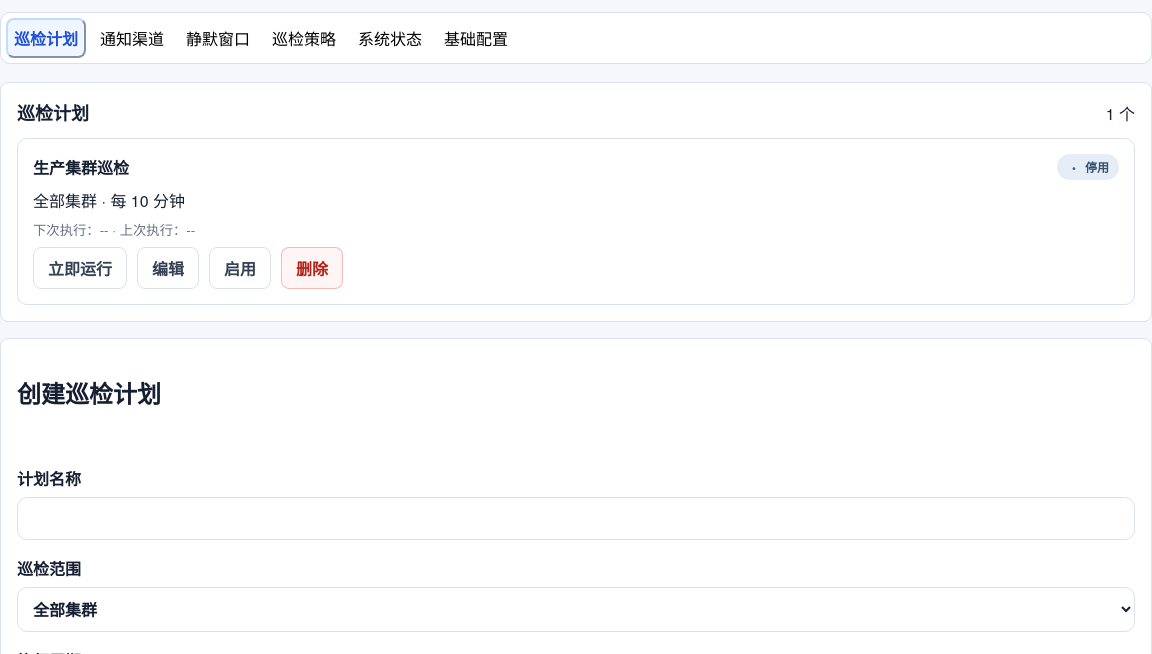
SettingsPage › creates and enables plans with CSRF while keeping management outside the workbench
Click the button "启用".
click(240, 268)  # box [209,247,271,289]
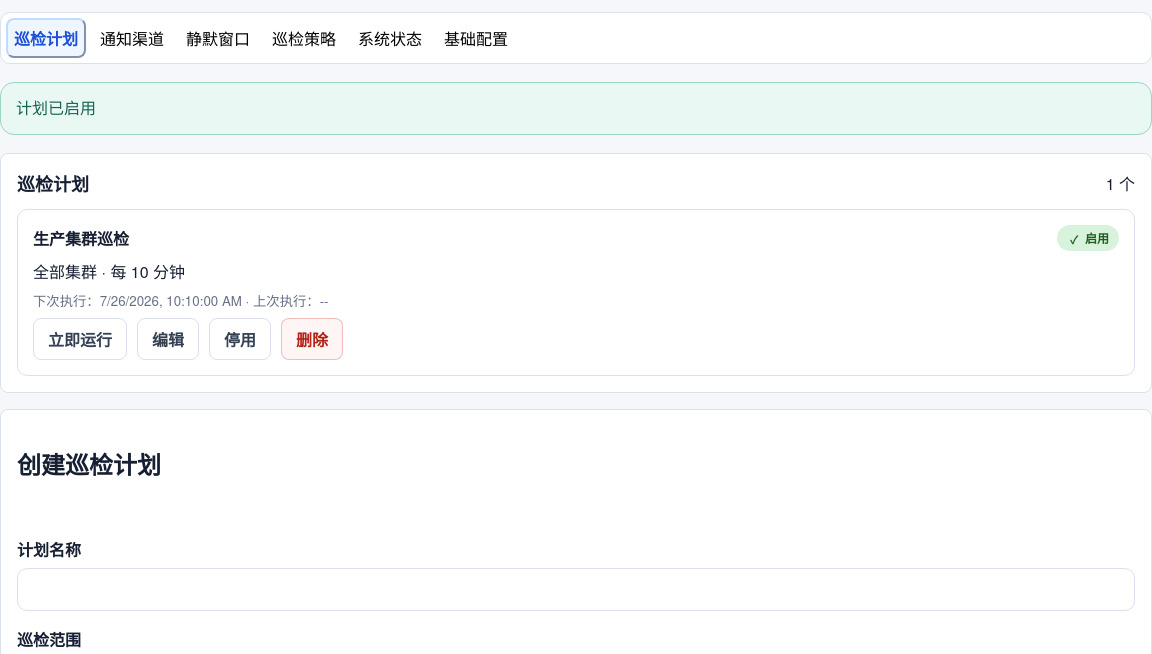
Expected: the text "计划已启用" is shown, [0,82,1151,135]
Type "核心名称空间" into the field labelled "计划名称".
click(576, 589); type("核心名称空间")  # box [17,568,1135,611]
(page scrolled)
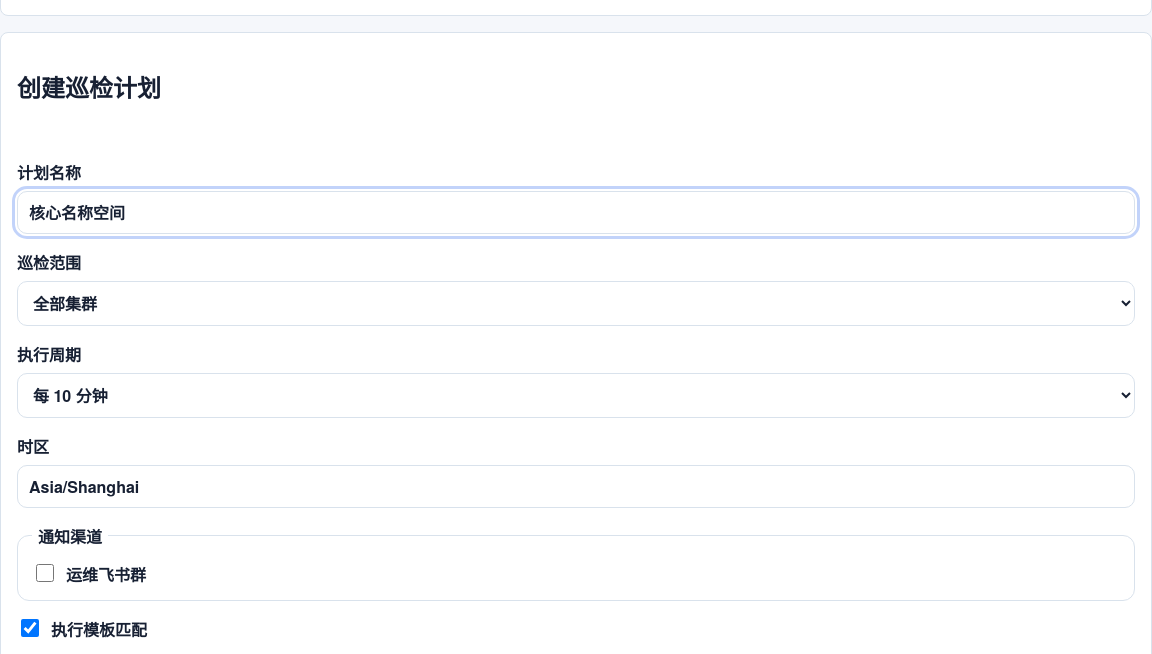
Select "指定名称空间" in the dropdown labelled "巡检范围" at (576, 303), box [17,281,1135,326]
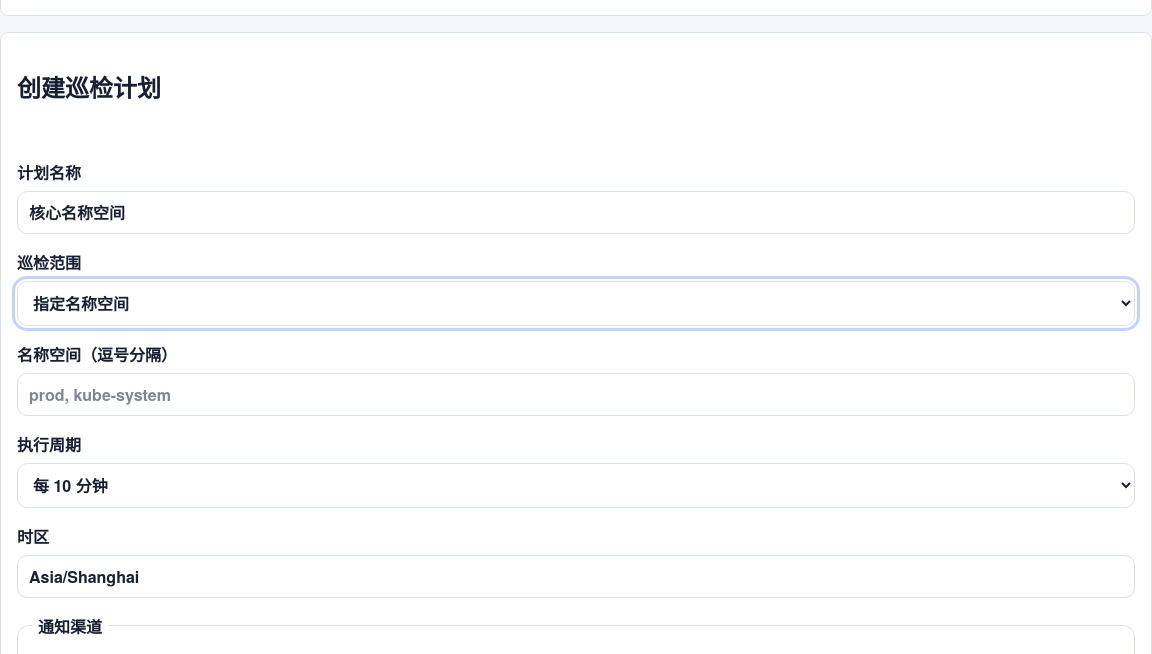
Type "prod, payments" into the field labelled "名称空间（逗号分隔）".
click(576, 394); type("prod, payments")  # box [17,373,1135,416]
(page scrolled)
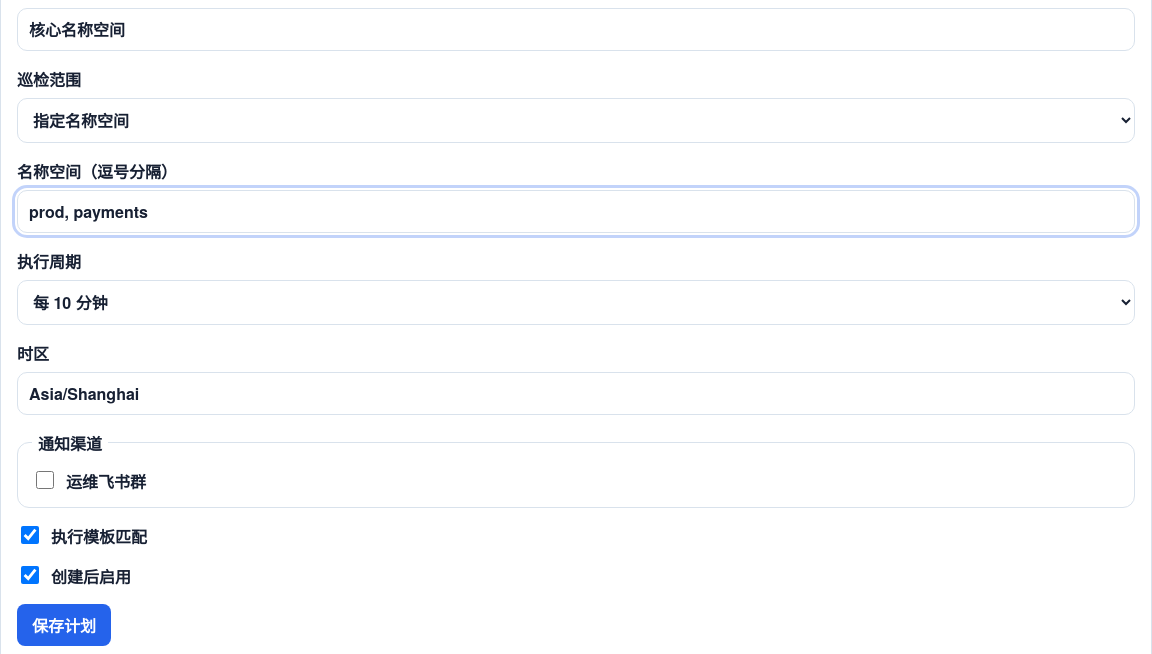
Click the button "保存计划".
click(64, 625)  # box [17,604,111,646]
(page scrolled)
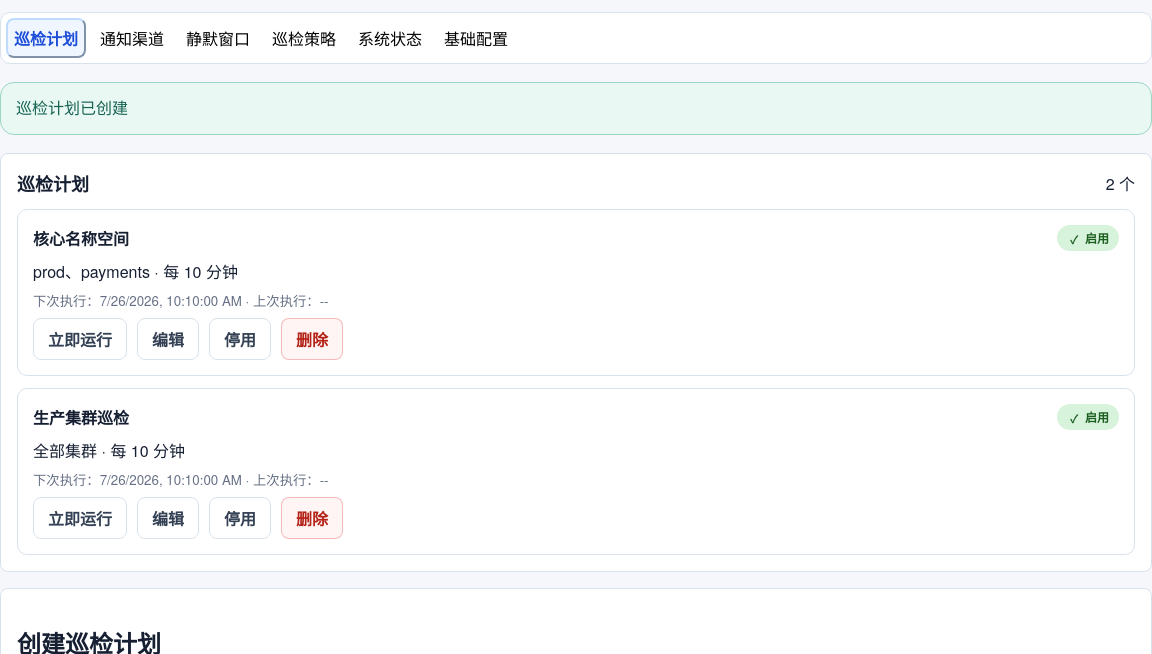
Expected: the text "巡检计划已创建" is shown, [0,82,1151,135]
